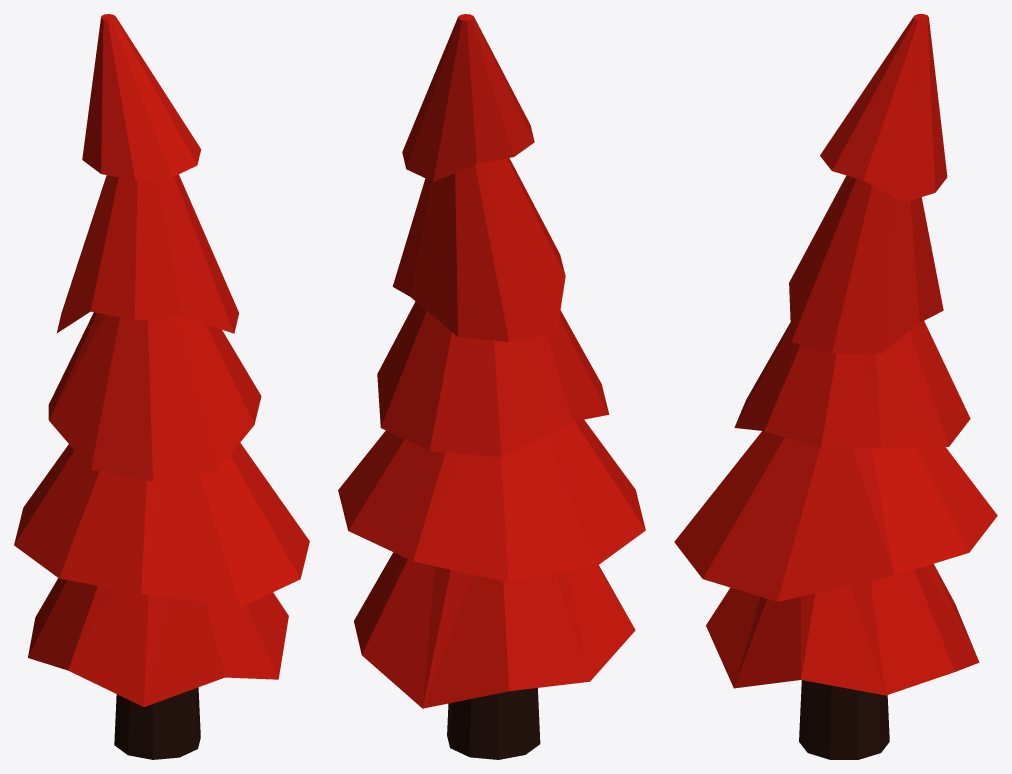
Rendered from t6-orange.obj.
3 renders of one model, left to right at view 1: azimuth 30°, elevation 25°; view 2: azimuth 150°, elevation 25°; view 3: azimuth 270°, elevation 25°, orthographic. The views are drawn at different scales.
Parts seen in each view (by area): view 1: t6-orange_Cylinder.020; view 2: t6-orange_Cylinder.020; view 3: t6-orange_Cylinder.020.
Boxes of the visible parts, <box> form: t6-orange_Cylinder.020: <box>14,14,309,759</box>; t6-orange_Cylinder.020: <box>338,14,645,759</box>; t6-orange_Cylinder.020: <box>674,14,997,759</box>.
Bounding box in the file's own units: 3.03 × 8.47 × 3.46.
